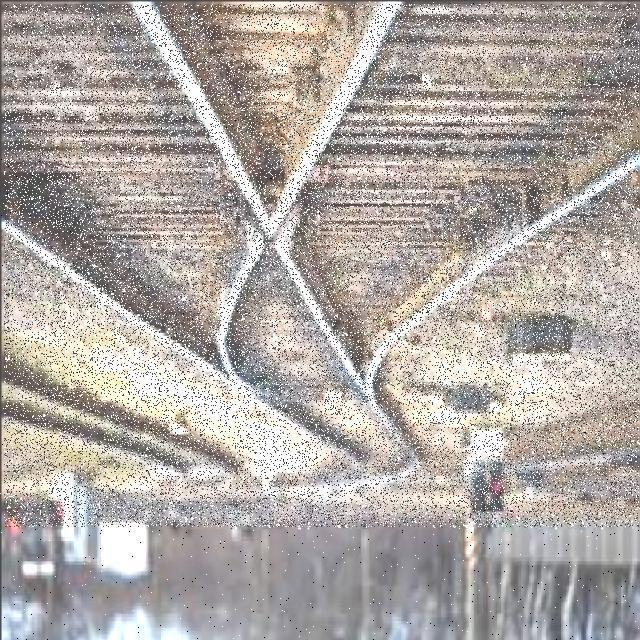rail: (4, 4, 639, 527)
